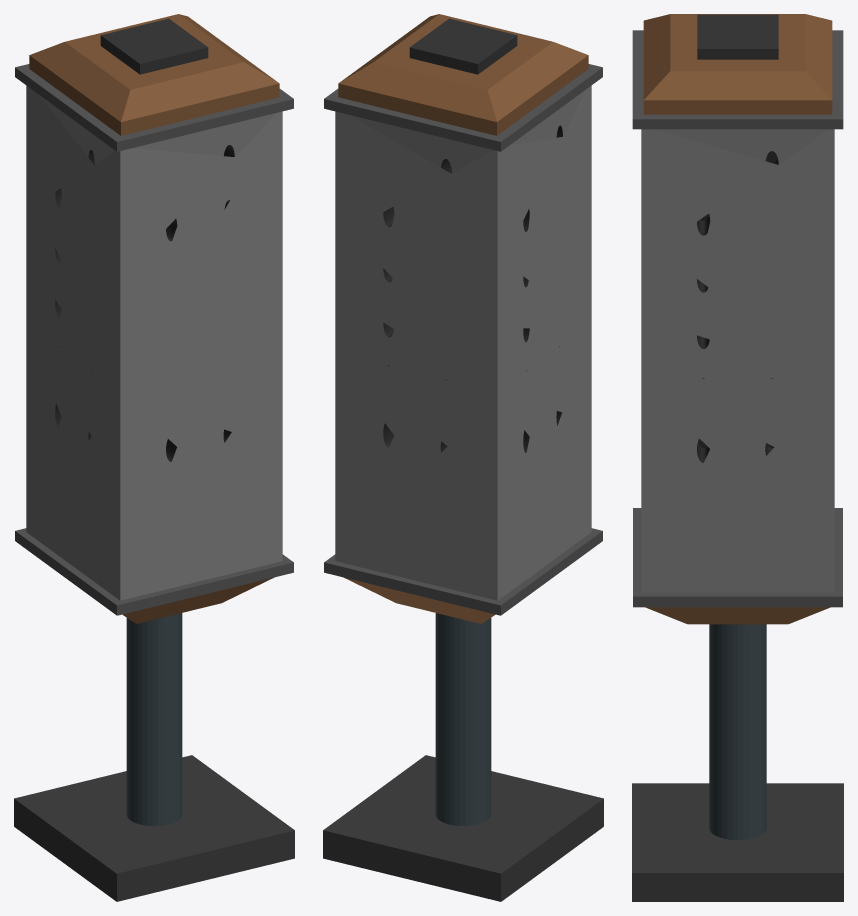
Rendered from Sunglasses Shelf.fbx.
The picture shows the model from 3 angles, left to right: view 1: azimuth 30°, elevation 25°; view 2: azimuth 150°, elevation 25°; view 3: azimuth 270°, elevation 25°; orthographic projection. The views are drawn at different scales.
Parts seen in each view (by area): view 1: Sunglasses Shelf; view 2: Sunglasses Shelf; view 3: Sunglasses Shelf.
Part boxes in pixels (x1,y1,x2,y2): Sunglasses Shelf: (14, 14, 294, 901); Sunglasses Shelf: (323, 14, 603, 901); Sunglasses Shelf: (632, 14, 843, 901).
Bounding box in the file's own units: 36.68 × 158 × 36.68.
1 material, 1 textured.
